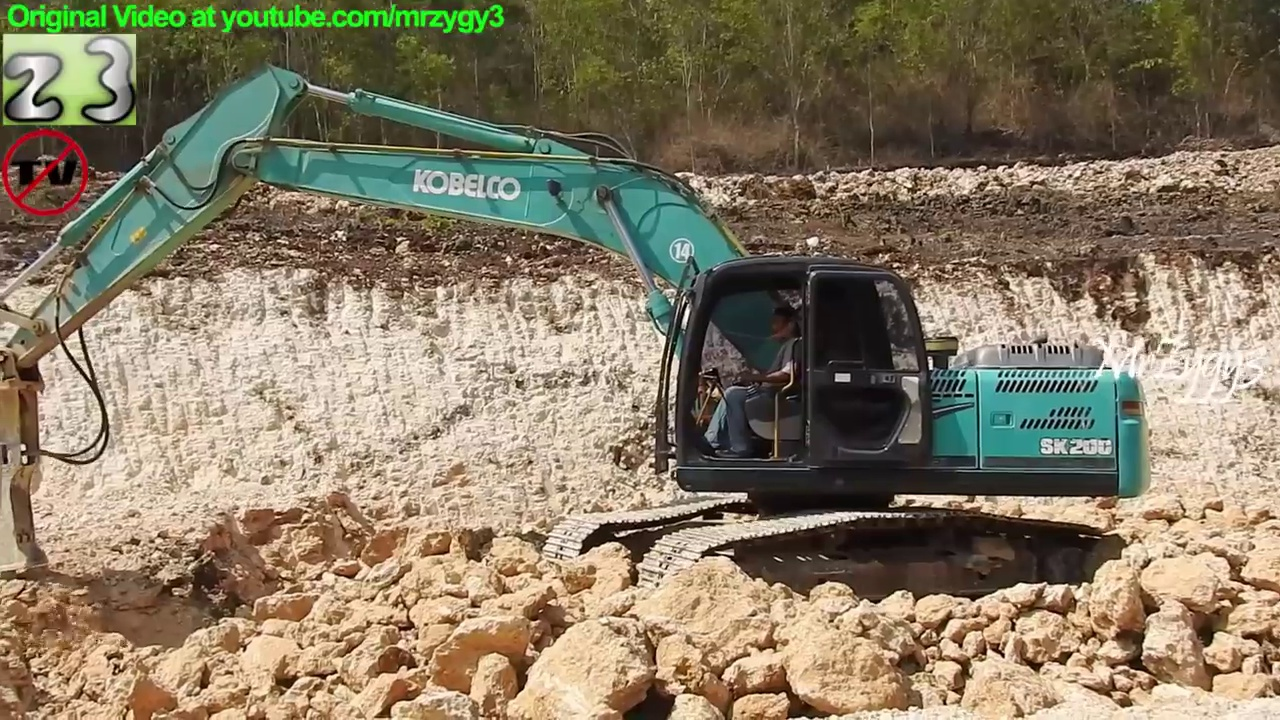excavator breaker: (1, 59, 1161, 616)
